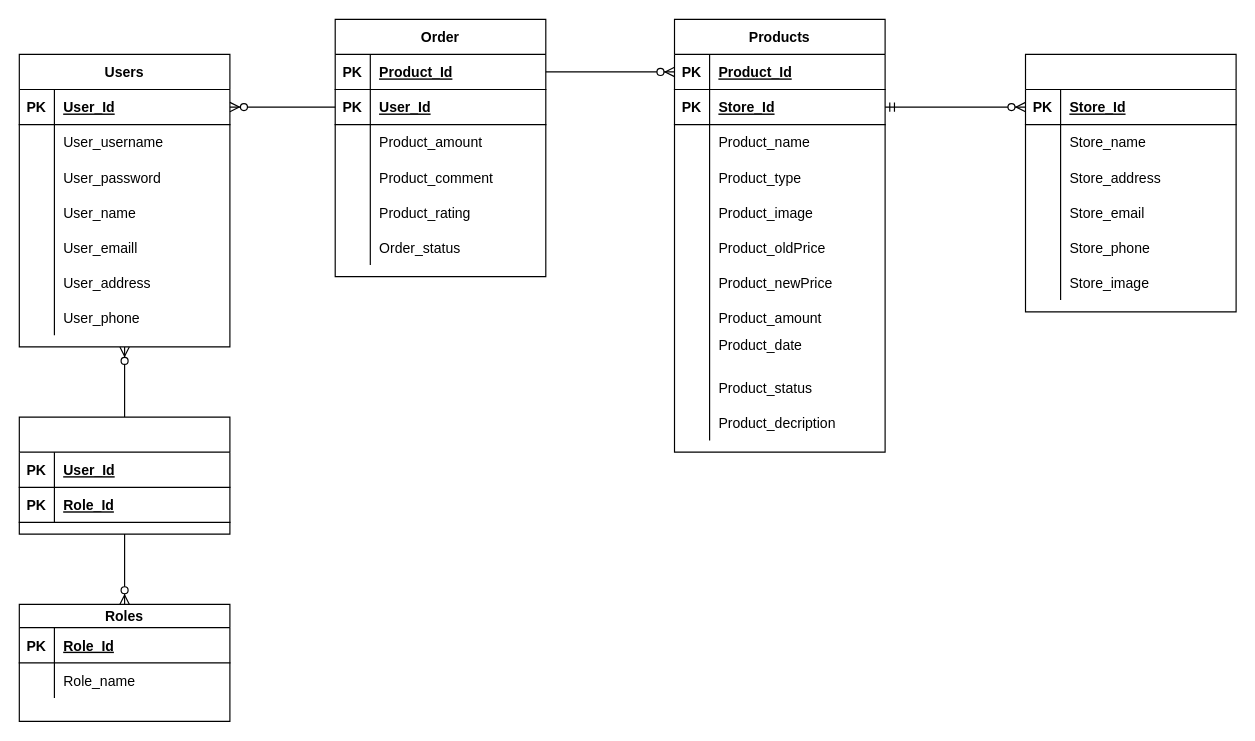
Some shapes in this 1255 by 741 pixel diagram are drawn without their labels. The box of each missing label's shape, as (x1, y1, x2, y2) in pixels:
Stores: (1024, 53, 1236, 312)
User_role: (18, 416, 230, 534)
